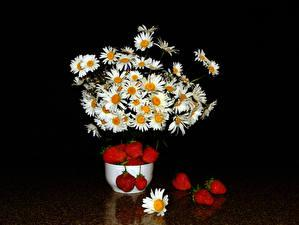chamomile: (132, 32, 182, 58), (146, 98, 188, 121), (97, 82, 127, 111), (167, 112, 205, 133), (203, 48, 223, 80), (135, 58, 168, 76), (180, 82, 209, 102), (84, 113, 116, 131), (122, 82, 146, 105), (146, 194, 170, 216), (103, 69, 127, 89), (140, 73, 164, 93), (101, 48, 126, 66), (186, 94, 211, 110), (129, 97, 150, 116), (81, 93, 98, 114), (118, 55, 138, 72), (67, 58, 84, 78), (84, 53, 100, 72), (106, 118, 131, 130), (163, 82, 179, 99), (133, 119, 158, 129), (174, 60, 183, 77), (136, 56, 148, 68)
